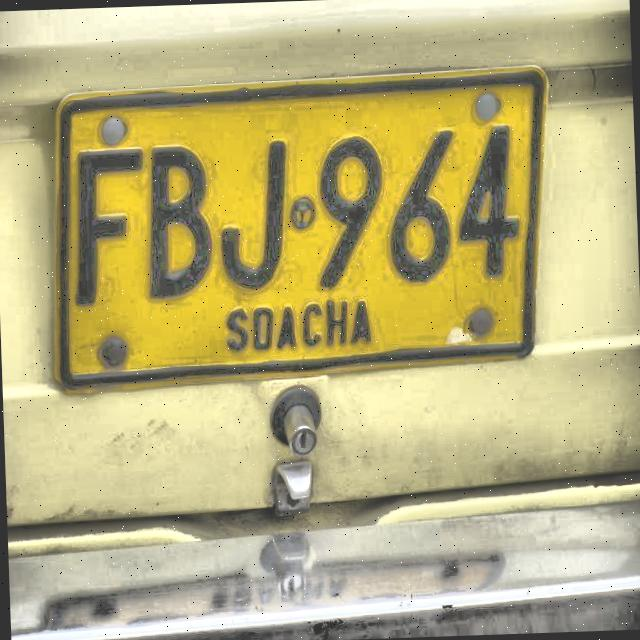4: (451, 122, 527, 285)
6: (383, 127, 464, 289)
9: (315, 133, 388, 291)
B: (143, 142, 215, 302)
F: (72, 144, 145, 307)
J: (216, 137, 291, 296)
